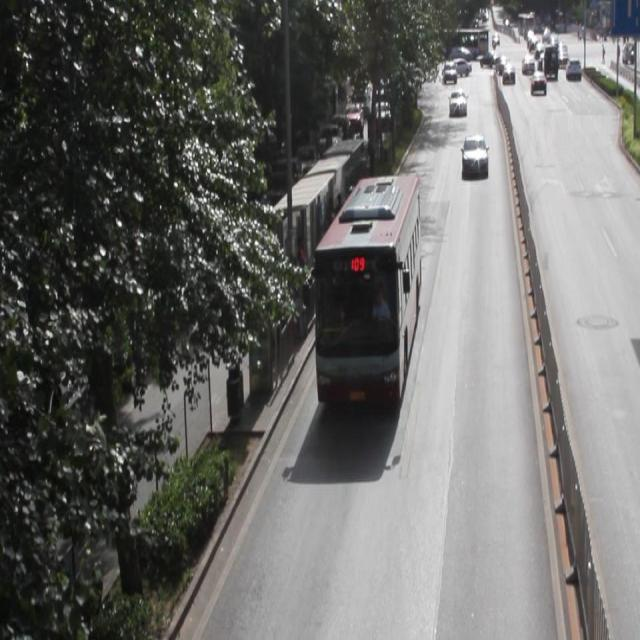car: (460, 133, 488, 173), (447, 87, 467, 112)
van: (314, 175, 419, 399)
